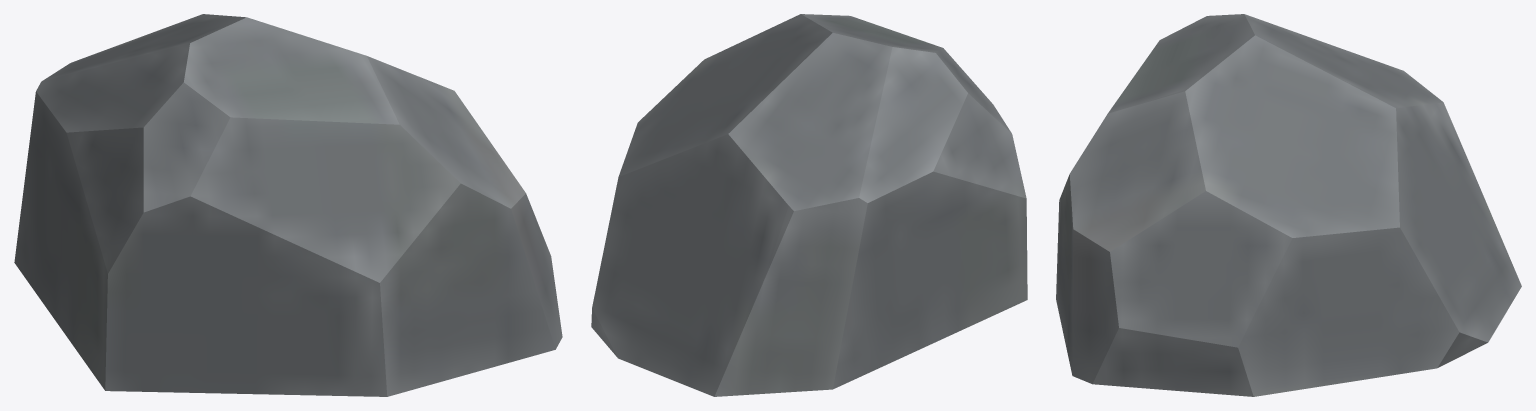
File: rock-2.glb
3 renders of one model, left to right at view 1: azimuth 30°, elevation 25°; view 2: azimuth 150°, elevation 25°; view 3: azimuth 270°, elevation 25°, orthographic. The views are drawn at different scales.
Visible parts, largest first — view 1: model; view 2: model; view 3: model.
Boxes of the visible parts, <box> form: model: <box>14,14,562,396</box>; model: <box>591,14,1027,396</box>; model: <box>1056,14,1521,396</box>.
Size of the model in its own units: 0.2458 by 0.1679 by 0.2717.
Materials: 1 (1 with a texture image).
